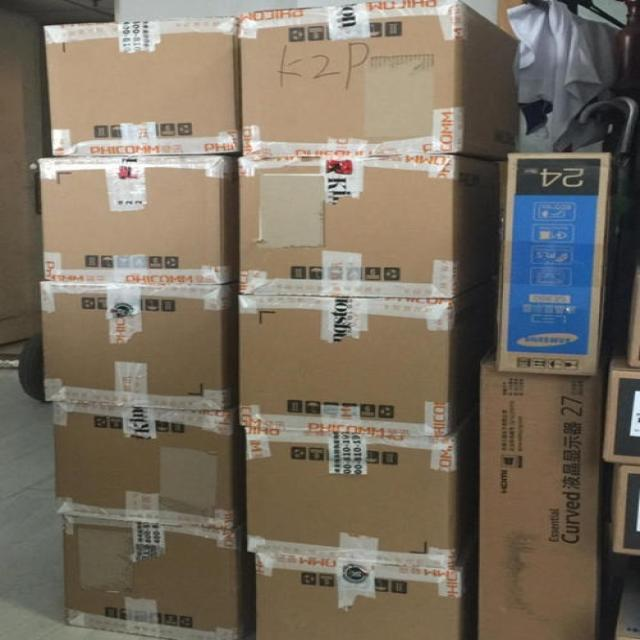box: (235, 0, 519, 161), (237, 277, 504, 434), (237, 402, 478, 567), (473, 345, 603, 639), (240, 153, 504, 294), (43, 14, 240, 158), (41, 279, 237, 411), (498, 151, 611, 377), (37, 156, 239, 281), (50, 400, 246, 528), (62, 514, 251, 637), (247, 544, 481, 637), (0, 6, 53, 345), (600, 345, 639, 466), (601, 457, 639, 554), (3, 0, 118, 22), (613, 560, 639, 639), (626, 224, 639, 366)
